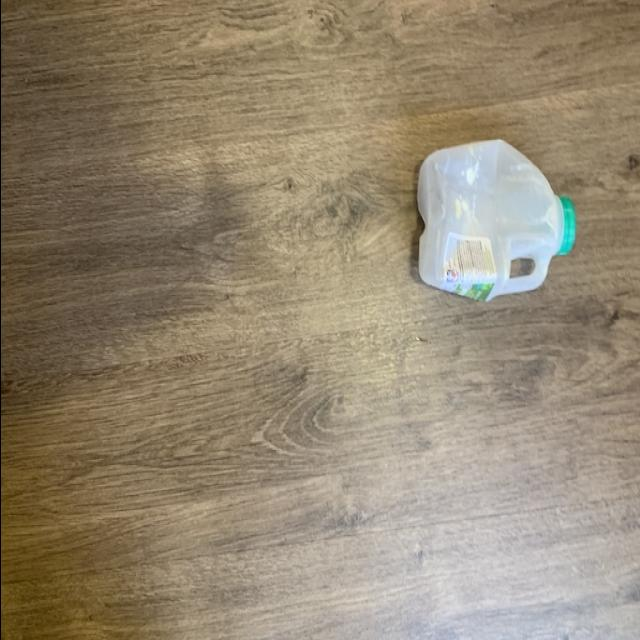litter: (413, 141, 574, 310)
